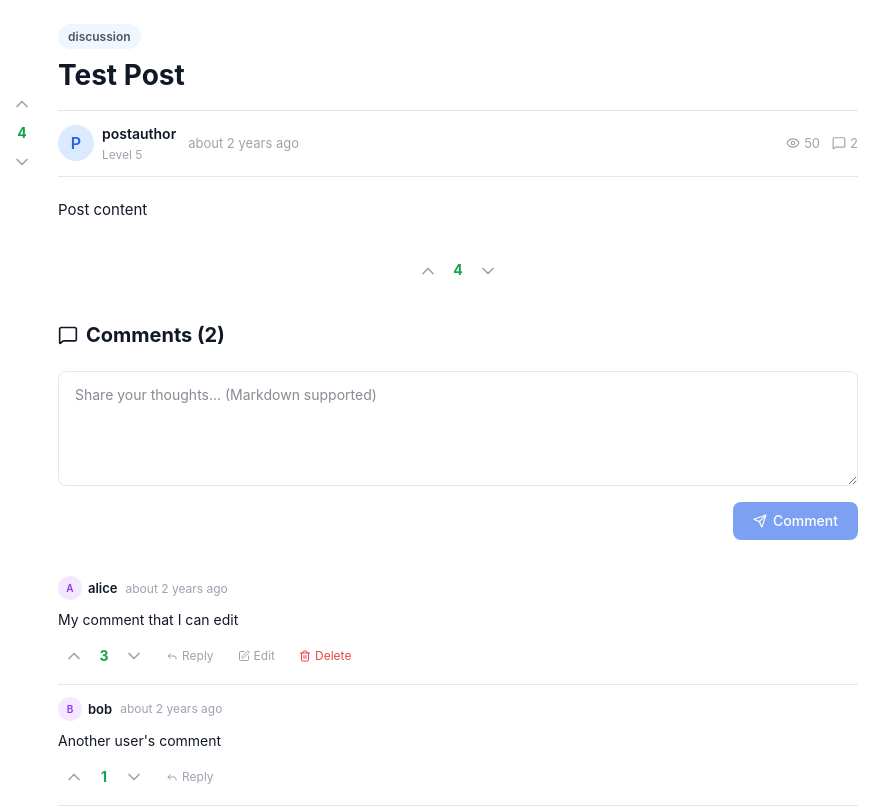
Test: PostDetailPage - Comment Editing › Edit mode › disables Cancel button when submitting
Click the button "Edit".
click(256, 656)  # box [230,642,283,670]
(page scrolled)
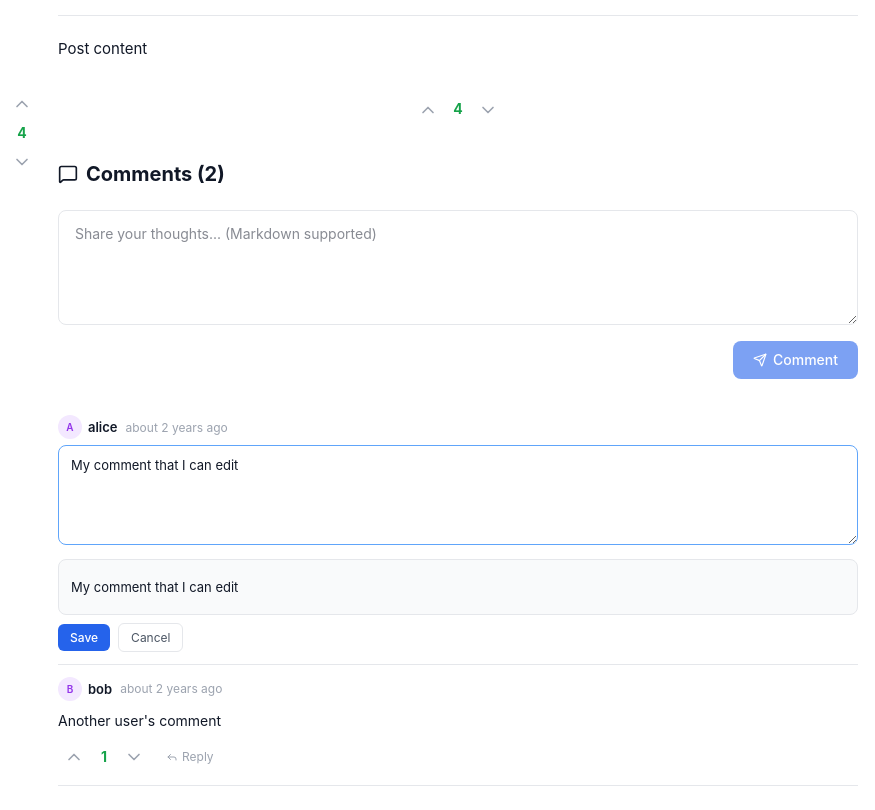
Click the button "Save".
click(84, 638)  # box [58,624,110,651]
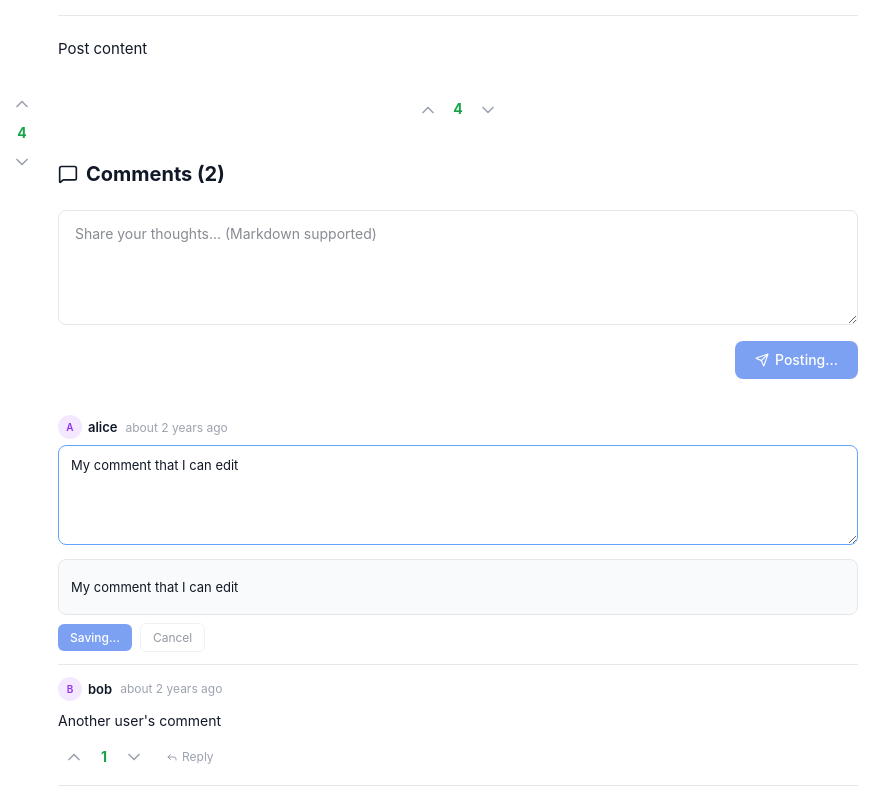
expect the button "Cancel" is disabled: met, box [140,623,205,652]
